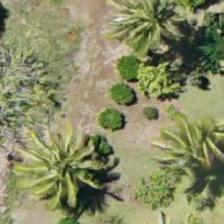coconut_tree: (13, 120, 103, 210), (107, 0, 197, 64), (161, 103, 223, 193)
